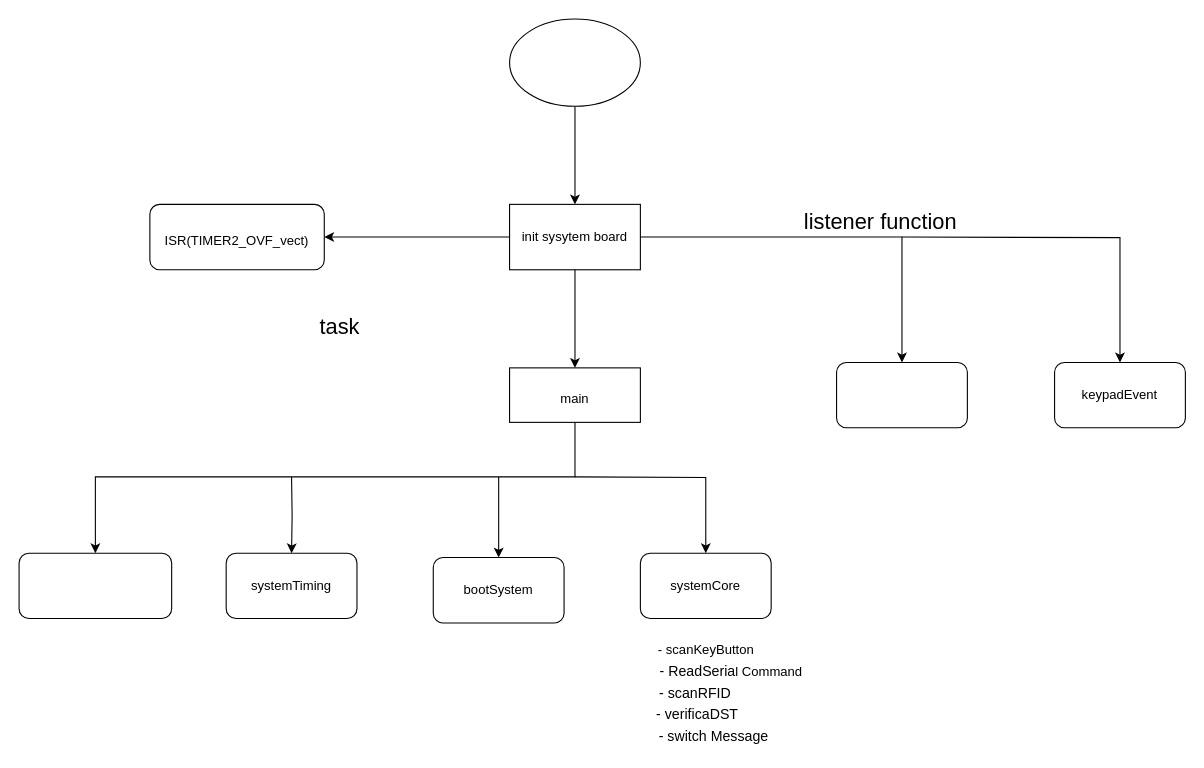
The diagram is 1204 pixels wide and 768 high, and some of its shapes have lost their labels. Here are the shapes that lost their labels. From the top down, the centre of each, then its label:
[574,62]: START
[901,394]: serviceButton
[95,585]: checkProtectionSystem
